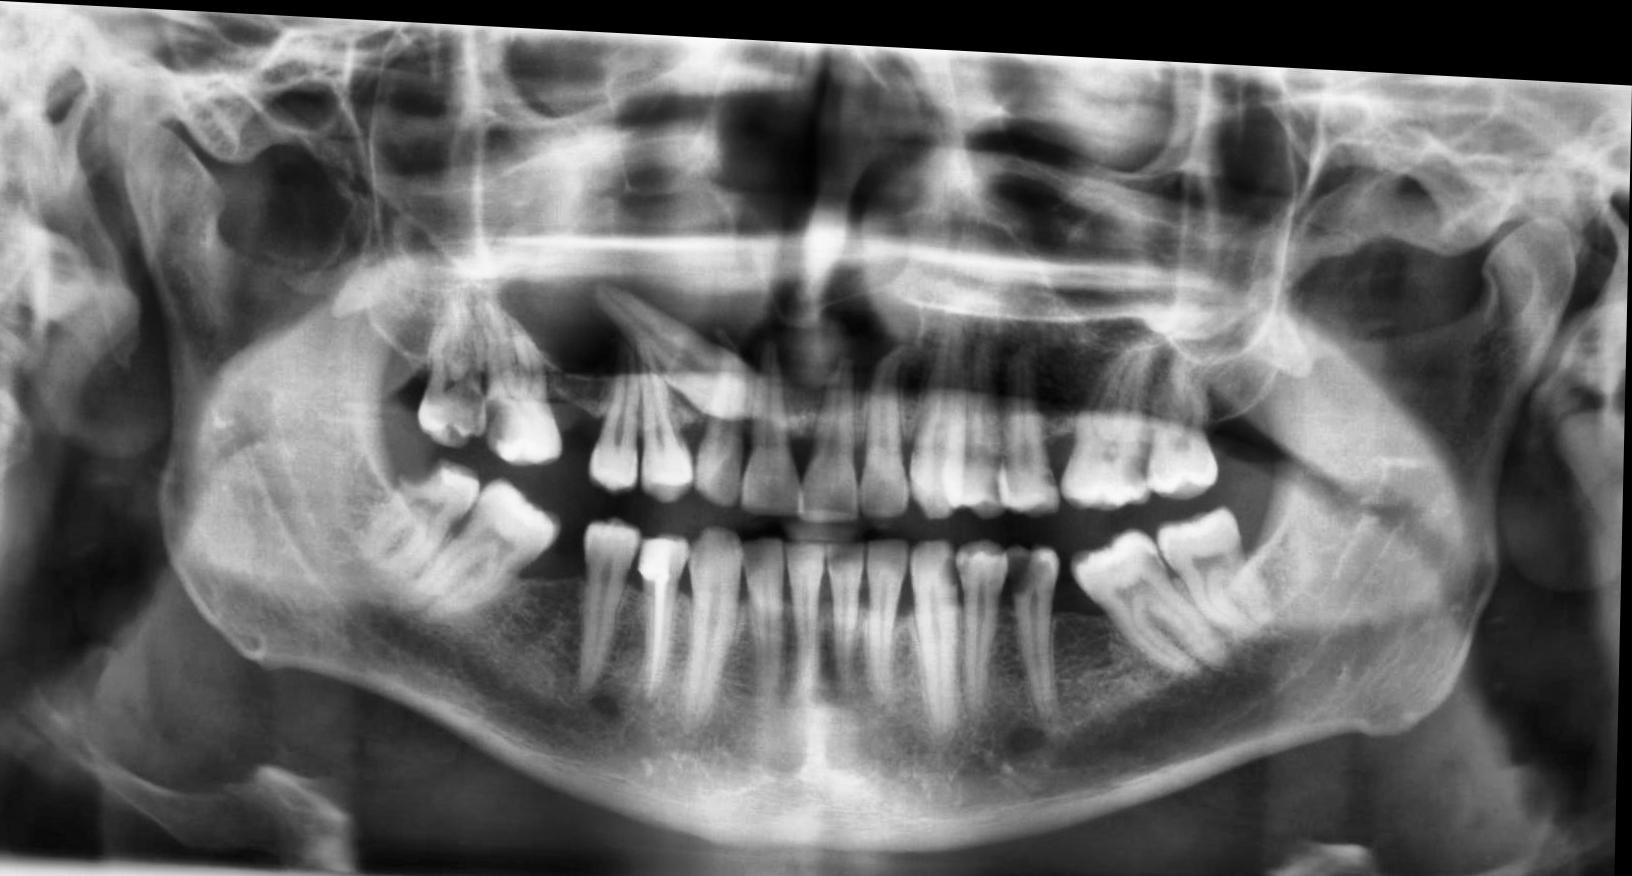dentigeroz: (489, 120, 929, 423)
